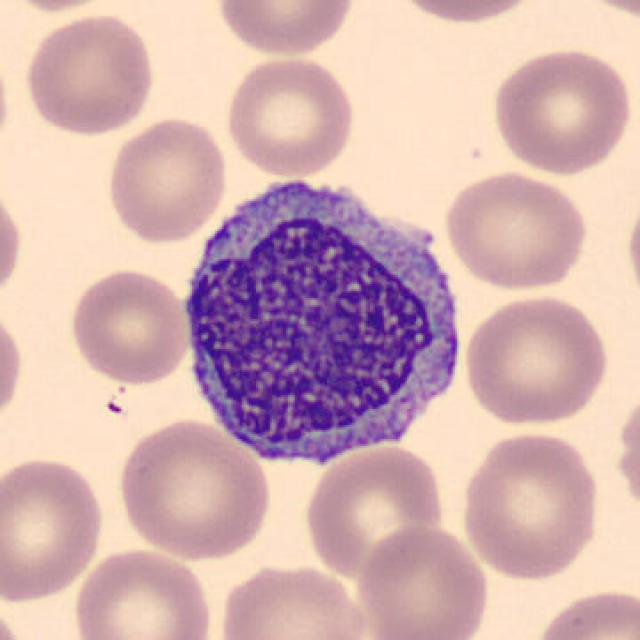Monocyte: (171, 160, 473, 478)
RBC: (114, 416, 276, 563), (457, 426, 604, 584), (458, 291, 612, 428), (300, 441, 448, 582), (487, 44, 635, 176), (441, 168, 590, 292), (20, 11, 158, 138), (101, 113, 231, 245), (222, 53, 359, 178), (0, 451, 107, 605), (354, 522, 492, 640), (66, 265, 194, 386), (69, 545, 217, 640), (214, 559, 372, 640), (214, 0, 358, 60), (528, 583, 638, 640), (382, 0, 547, 26), (611, 384, 640, 521), (0, 301, 27, 432), (0, 180, 25, 307), (622, 182, 640, 316), (0, 0, 124, 14), (0, 44, 14, 162), (563, 0, 640, 19), (0, 599, 27, 640)
